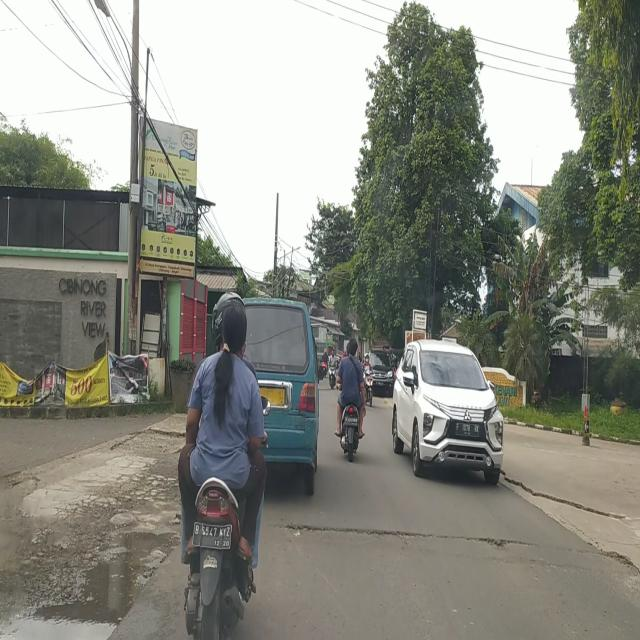Sewer Cover: (274, 525, 600, 557)
